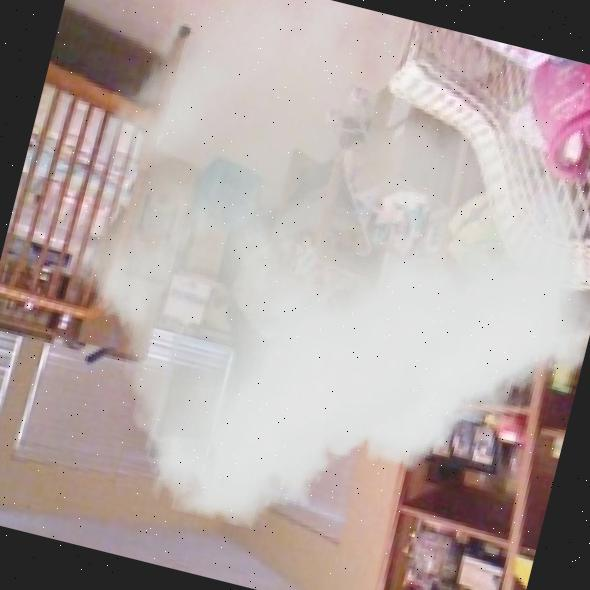smoke: (15, 0, 590, 590)
